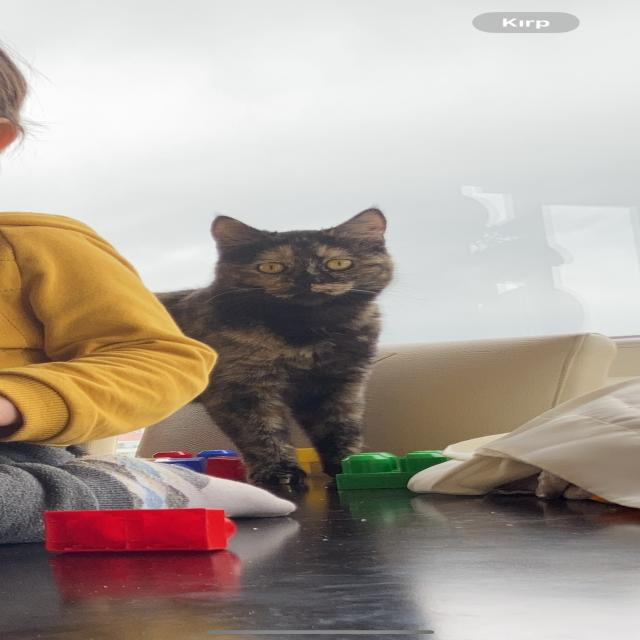authorized: (150, 206, 395, 491)
